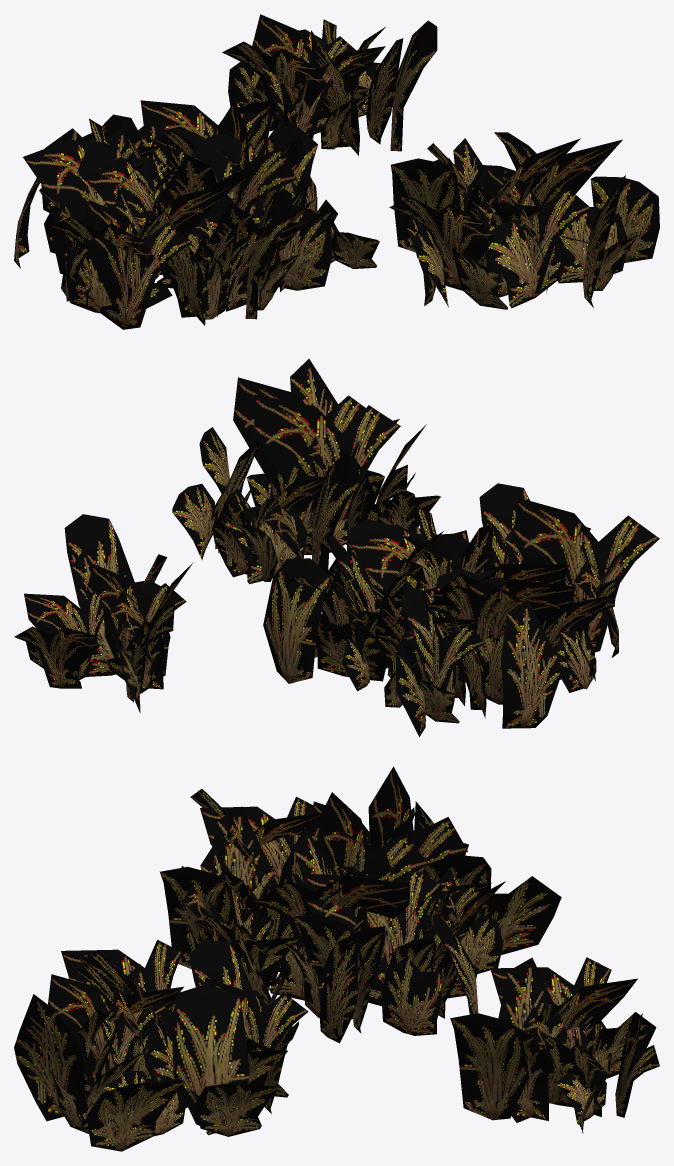
The model's file is grass_patches.glb.
3 views of the same model, one above another, from view 1: azimuth 30°, elevation 25°; view 2: azimuth 150°, elevation 25°; view 3: azimuth 270°, elevation 25° (orthographic). The views are drawn at different scales.
Visible parts, largest first — view 1: grasspatch3, grasspatch1, grasspatch2; view 2: grasspatch3, grasspatch1, grasspatch2; view 3: grasspatch3, grasspatch1, grasspatch2.
Boxes of the visible parts, x1,y1,x2,y2 form: grasspatch3: [14, 100, 379, 329]; grasspatch1: [389, 132, 659, 309]; grasspatch2: [222, 14, 437, 155]; grasspatch3: [263, 483, 659, 736]; grasspatch1: [172, 358, 440, 584]; grasspatch2: [14, 514, 193, 712]; grasspatch3: [160, 766, 561, 1043]; grasspatch1: [14, 939, 308, 1151]; grasspatch2: [450, 957, 659, 1133].
Bounding box in the file's own units: 507 × 129 × 524.
Materials: 1 (1 with a texture image).
